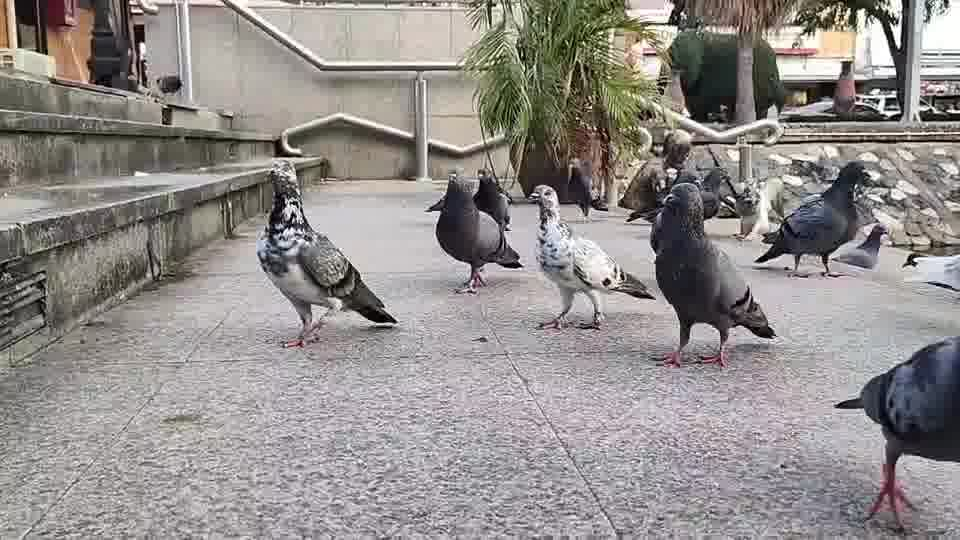Pigeon: (255, 158, 398, 348), (832, 334, 959, 533), (647, 182, 777, 369), (527, 183, 656, 332), (752, 160, 871, 276), (423, 172, 524, 295), (829, 222, 888, 271), (900, 250, 959, 292)
